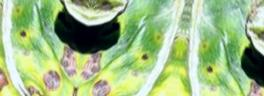Tomato Septoria leaf spot: (60, 0, 204, 96)
